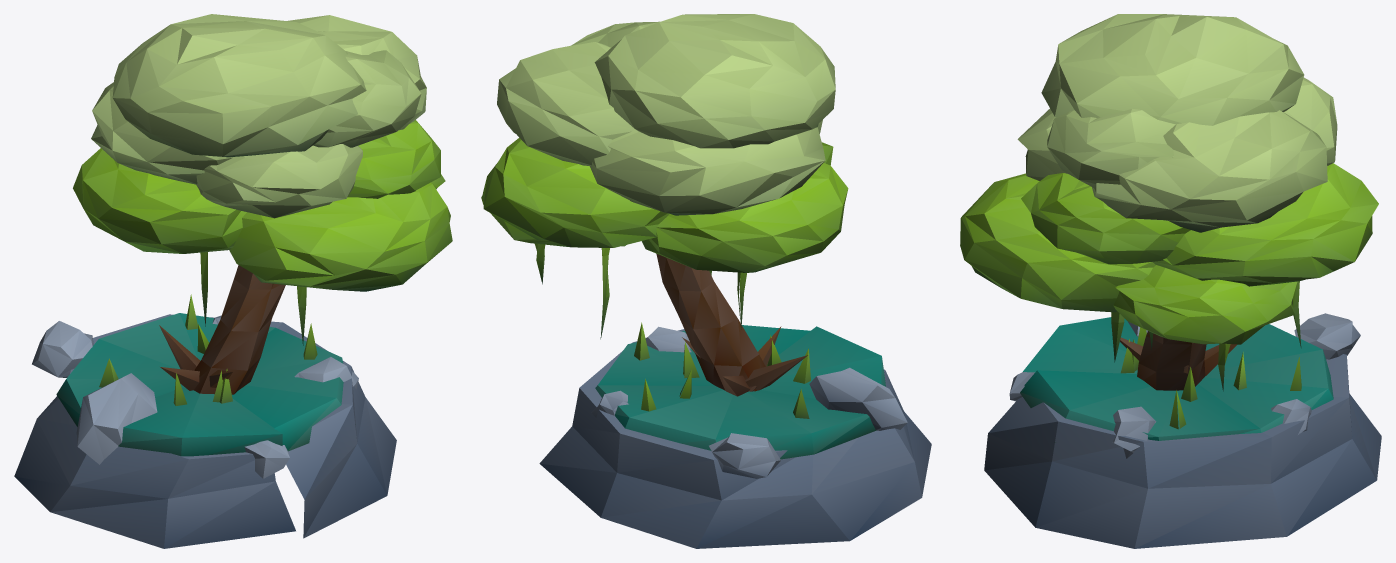
Rendered from pohon_river_highland_663816.glb.
3 views of the same model, side by side, from view 1: azimuth 30°, elevation 25°; view 2: azimuth 150°, elevation 25°; view 3: azimuth 270°, elevation 25° (orthographic). The views are drawn at different scales.
Visible parts, largest first — view 1: Dedaunan_Dan_Sulur, Pulau_Batu_Tepi_Sungai, Batang_Dan_Akar; view 2: Dedaunan_Dan_Sulur, Pulau_Batu_Tepi_Sungai, Batang_Dan_Akar; view 3: Dedaunan_Dan_Sulur, Pulau_Batu_Tepi_Sungai, Batang_Dan_Akar.
Boxes of the visible parts, box(x1,y1,x2,y2) form: Dedaunan_Dan_Sulur: box(73, 14, 452, 345); Pulau_Batu_Tepi_Sungai: box(14, 294, 396, 548); Batang_Dan_Akar: box(159, 265, 285, 394); Dedaunan_Dan_Sulur: box(481, 14, 848, 339); Pulau_Batu_Tepi_Sungai: box(539, 322, 931, 548); Batang_Dan_Akar: box(656, 253, 807, 396); Dedaunan_Dan_Sulur: box(960, 14, 1378, 391); Pulau_Batu_Tepi_Sungai: box(984, 313, 1381, 548); Batang_Dan_Akar: box(1120, 331, 1236, 390).
Bounding box in the file's own units: 6.53 × 6.71 × 5.66.
